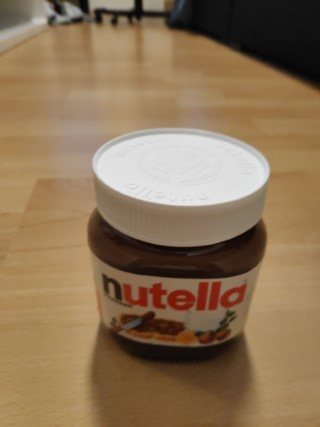nutella: (83, 125, 271, 365)
